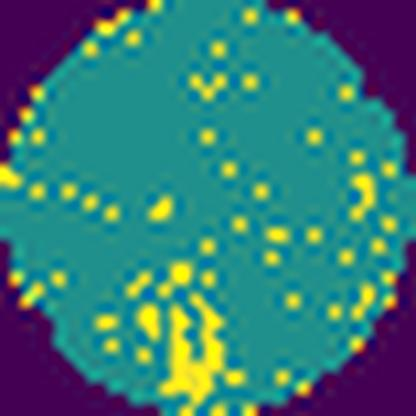Loc: (159, 296, 224, 415)
